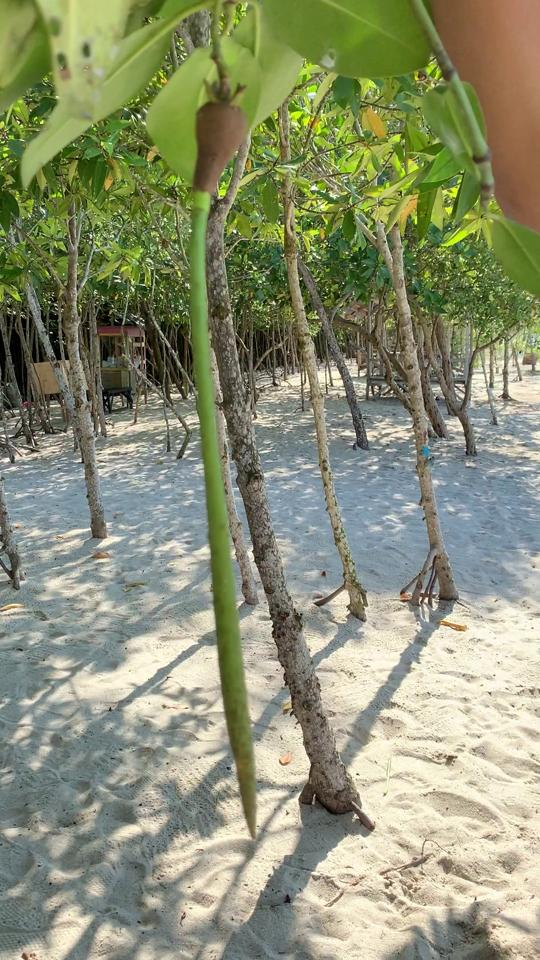setengah matang: (177, 71, 267, 859)
